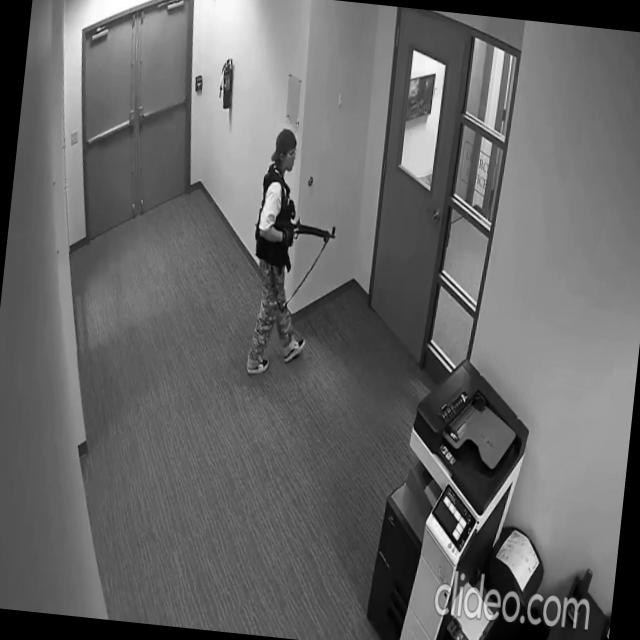gun: (282, 214, 340, 248)
person with a gun: (240, 124, 349, 384)
